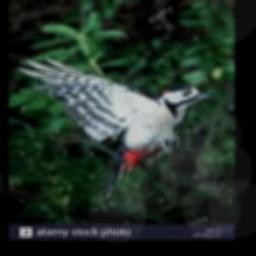Woodpecker: (19, 56, 219, 199)
